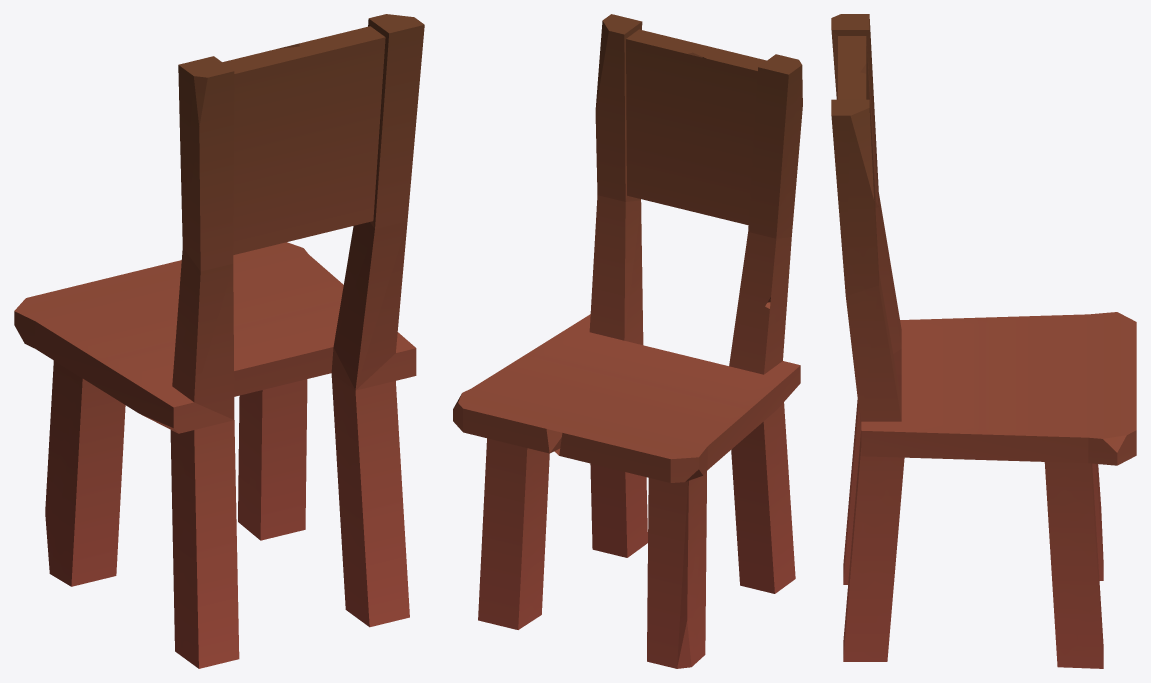
The model's file is stool_old.glb.
The picture shows the model from 3 angles, left to right: view 1: azimuth 30°, elevation 25°; view 2: azimuth 150°, elevation 25°; view 3: azimuth 270°, elevation 25°; orthographic projection. The views are drawn at different scales.
Parts seen in each view (by area): view 1: Stool_Old; view 2: Stool_Old; view 3: Stool_Old.
Part boxes in pixels (x1,y1,x2,y2): Stool_Old: (14, 14, 424, 668); Stool_Old: (453, 14, 802, 668); Stool_Old: (831, 14, 1136, 668).
Bounding box in the file's own units: 0.5885 × 1.18 × 0.5917.
Materials: 1 (1 with a texture image).
